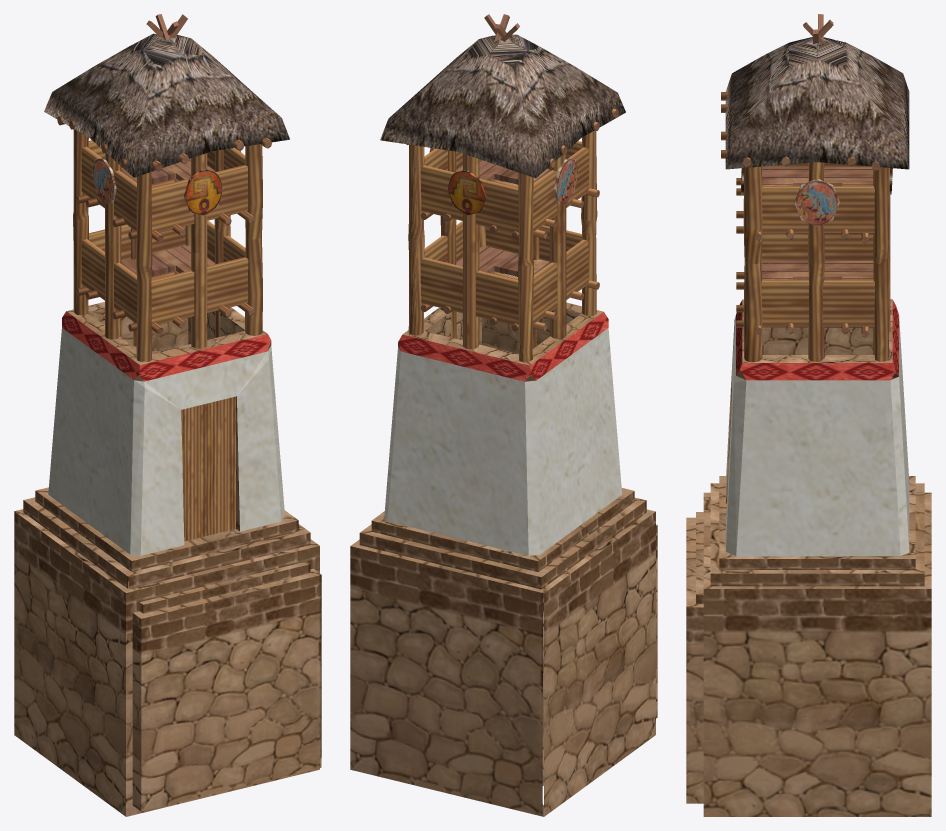
Rendered from town_tower.dae.
3 renders of one model, left to right at view 1: azimuth 30°, elevation 25°; view 2: azimuth 150°, elevation 25°; view 3: azimuth 270°, elevation 25°, orthographic.
Visible parts, largest first — view 1: TowerTown; view 2: TowerTown; view 3: TowerTown.
Boxes of the visible parts, bbox=[...] form: TowerTown: bbox=[14, 14, 321, 816]; TowerTown: bbox=[350, 14, 657, 816]; TowerTown: bbox=[686, 14, 931, 816].
Bounding box in the file's own units: 7.64 × 8.22 × 27.65.
